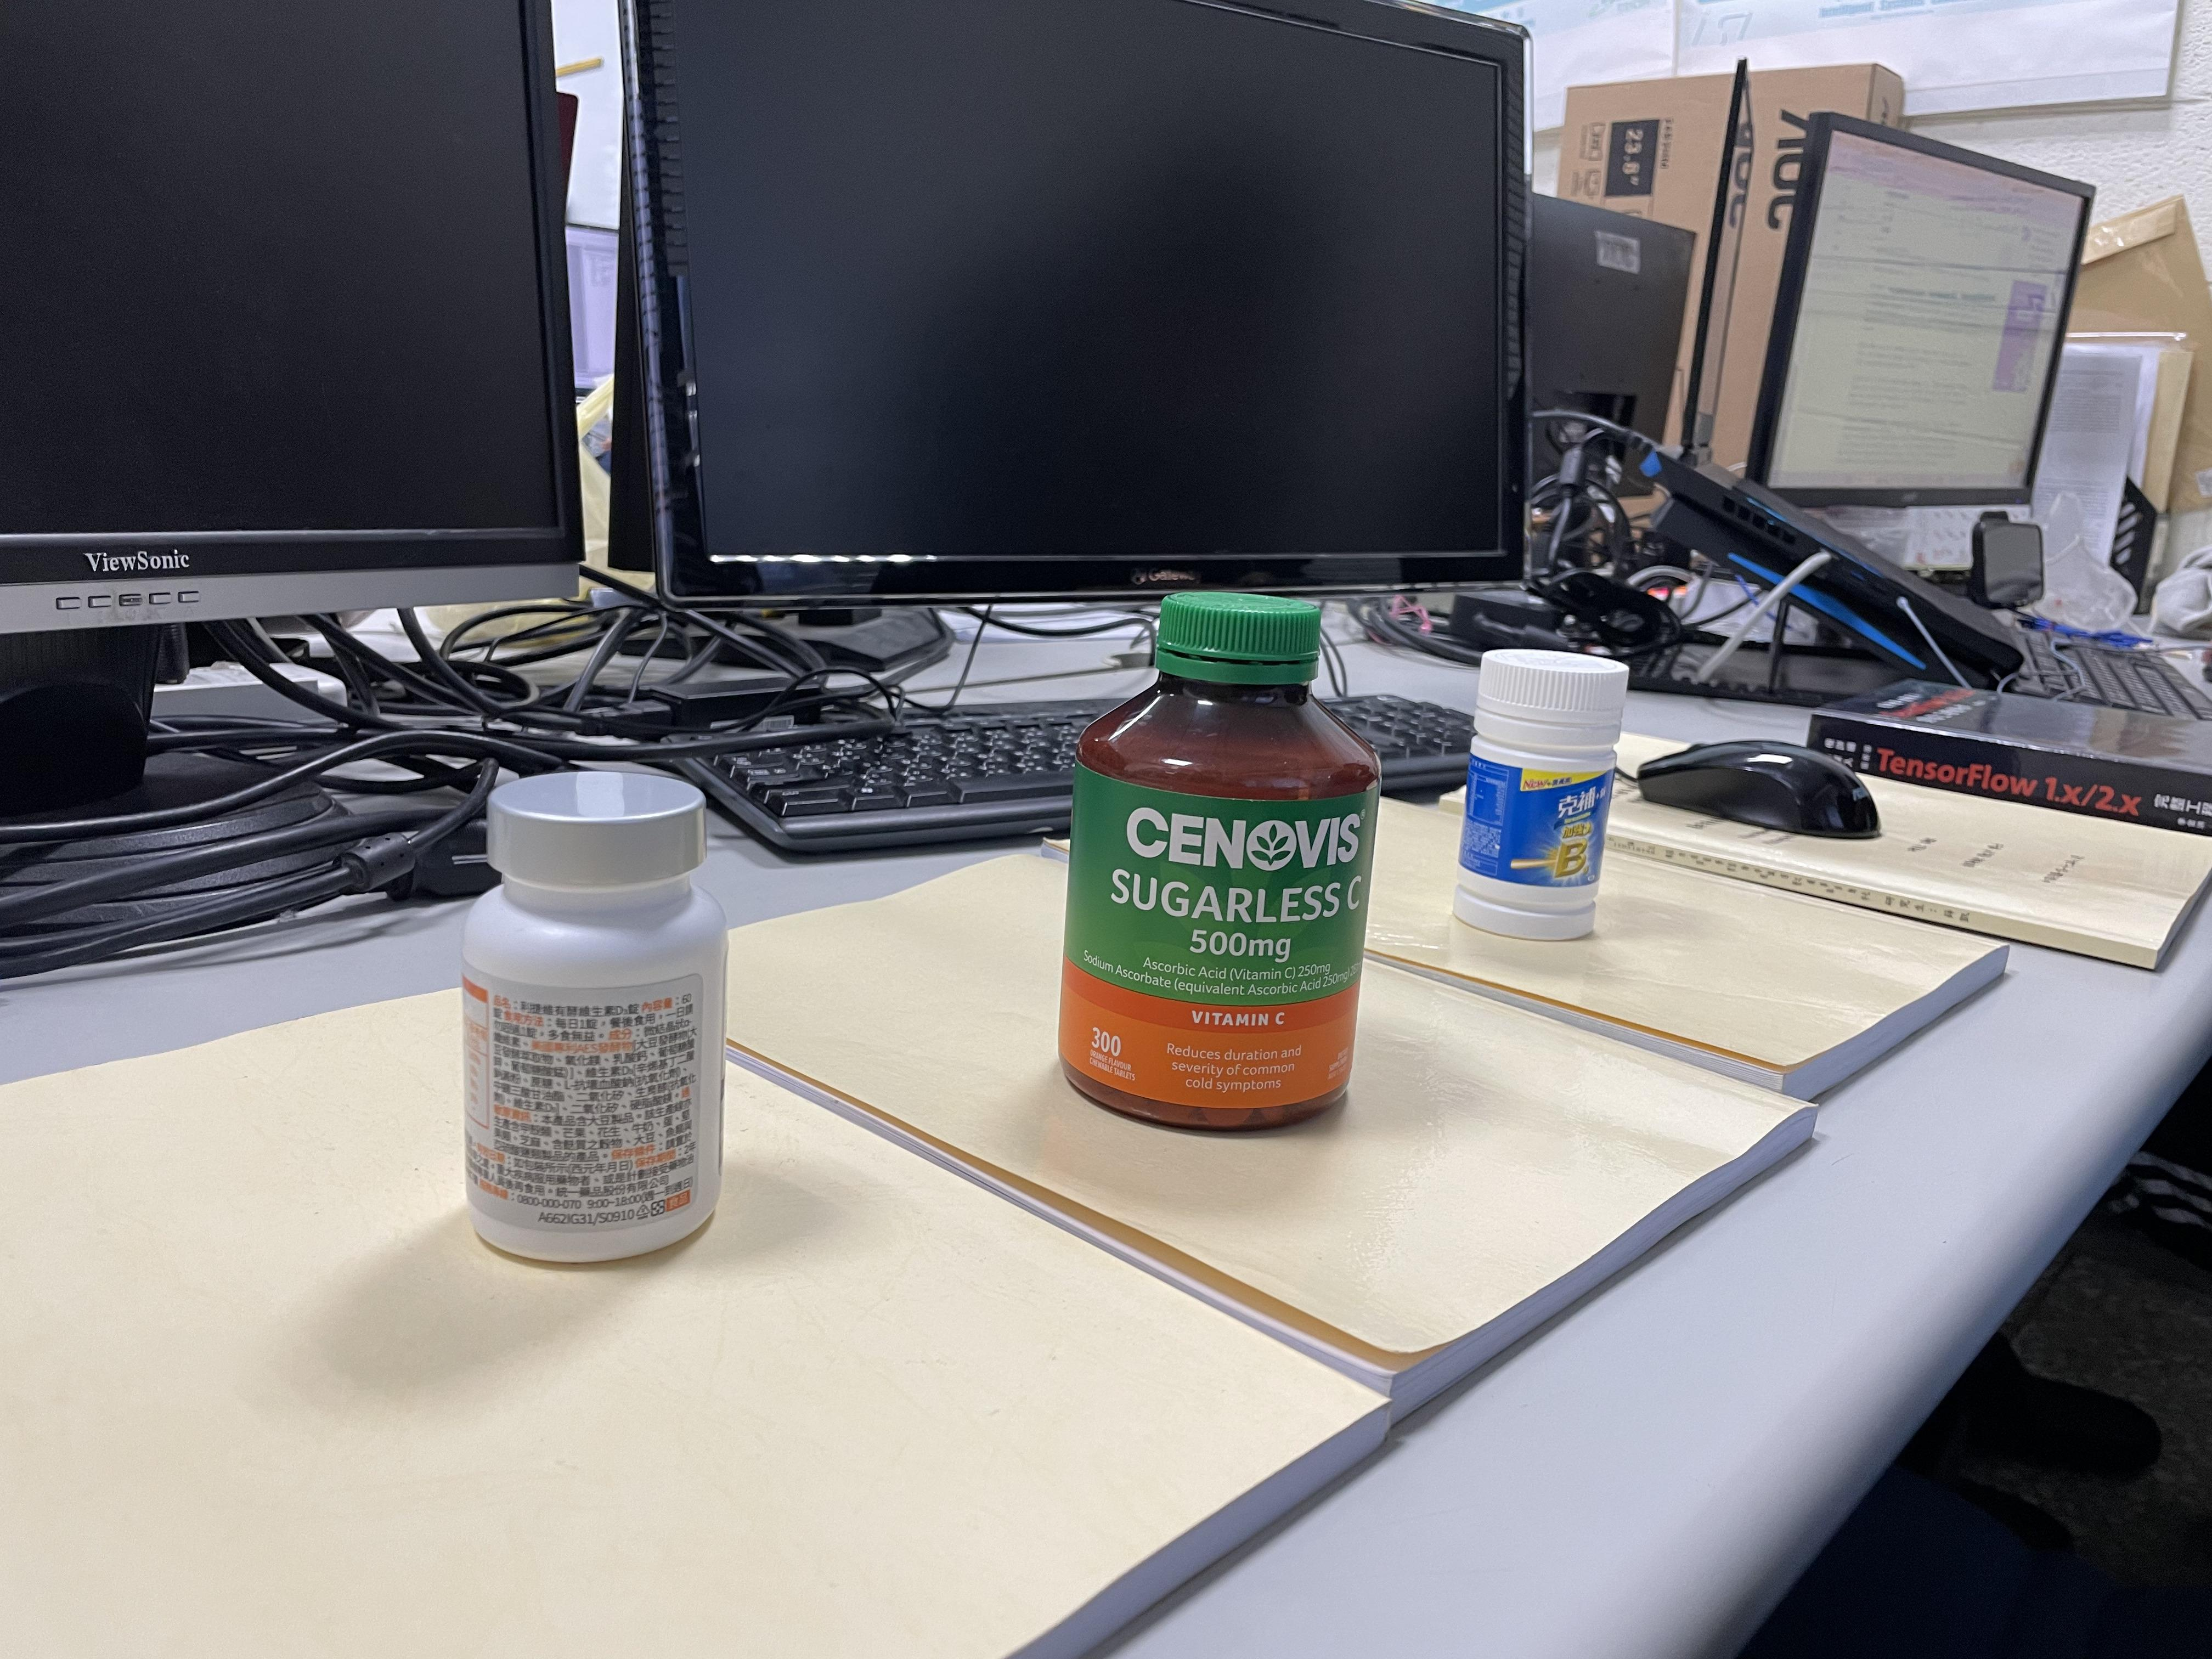jar: (1026, 554, 1393, 1127), (416, 769, 759, 1272), (1449, 634, 1627, 938)
